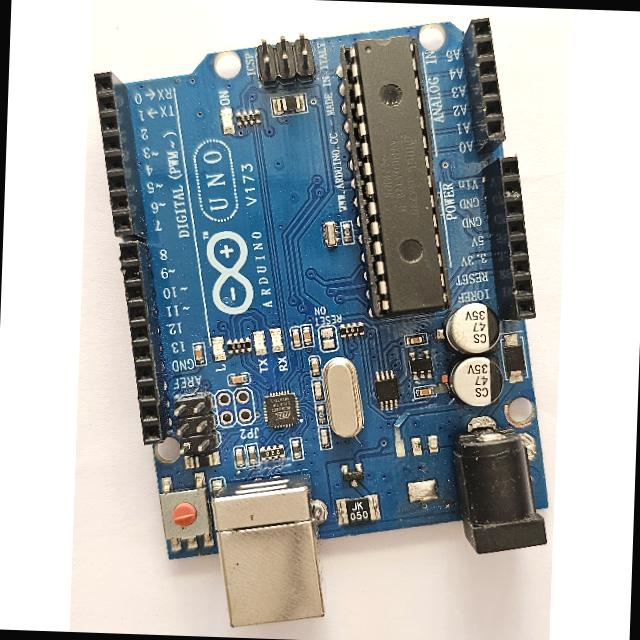missing_voltage_reg: (389, 426, 453, 511)
